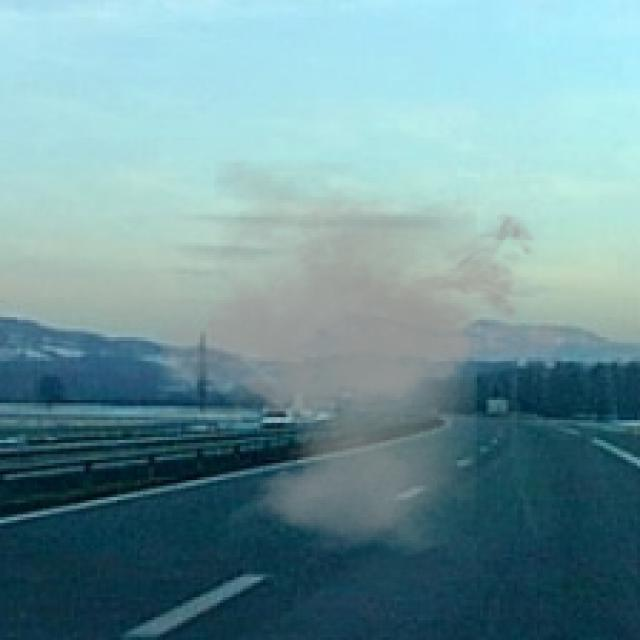Smoke: (142, 160, 548, 554)
